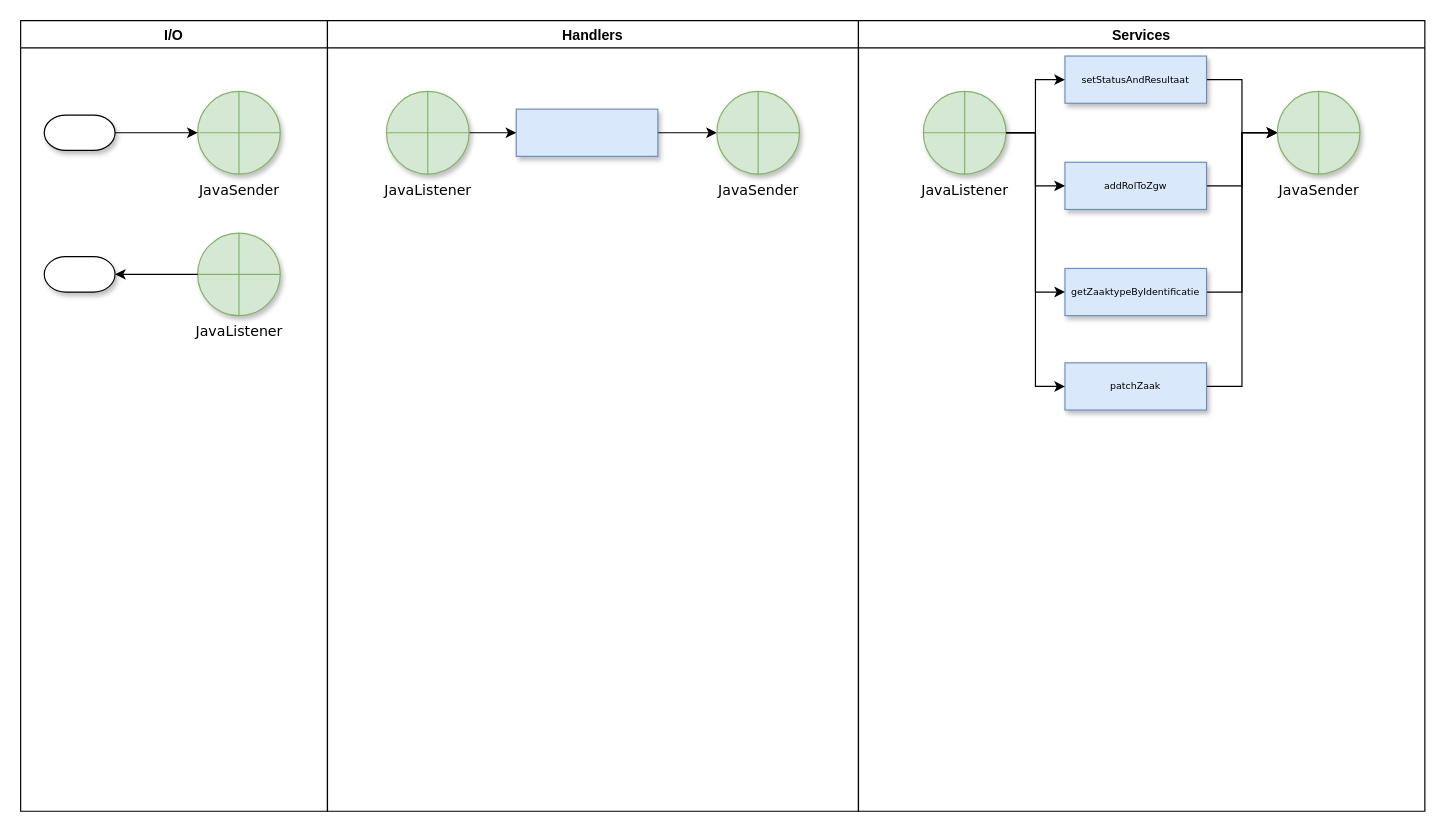
This 1445x832 diagram has some shape labels left out. The shapes that lost their labels are listed below. From the top down, each one's centre as x and y in pixels, then its label:
At point (80, 134): "SOAP Listener".
At point (587, 134): "CreeerZaakHandler".
At point (80, 275): "SOAP Sender".
